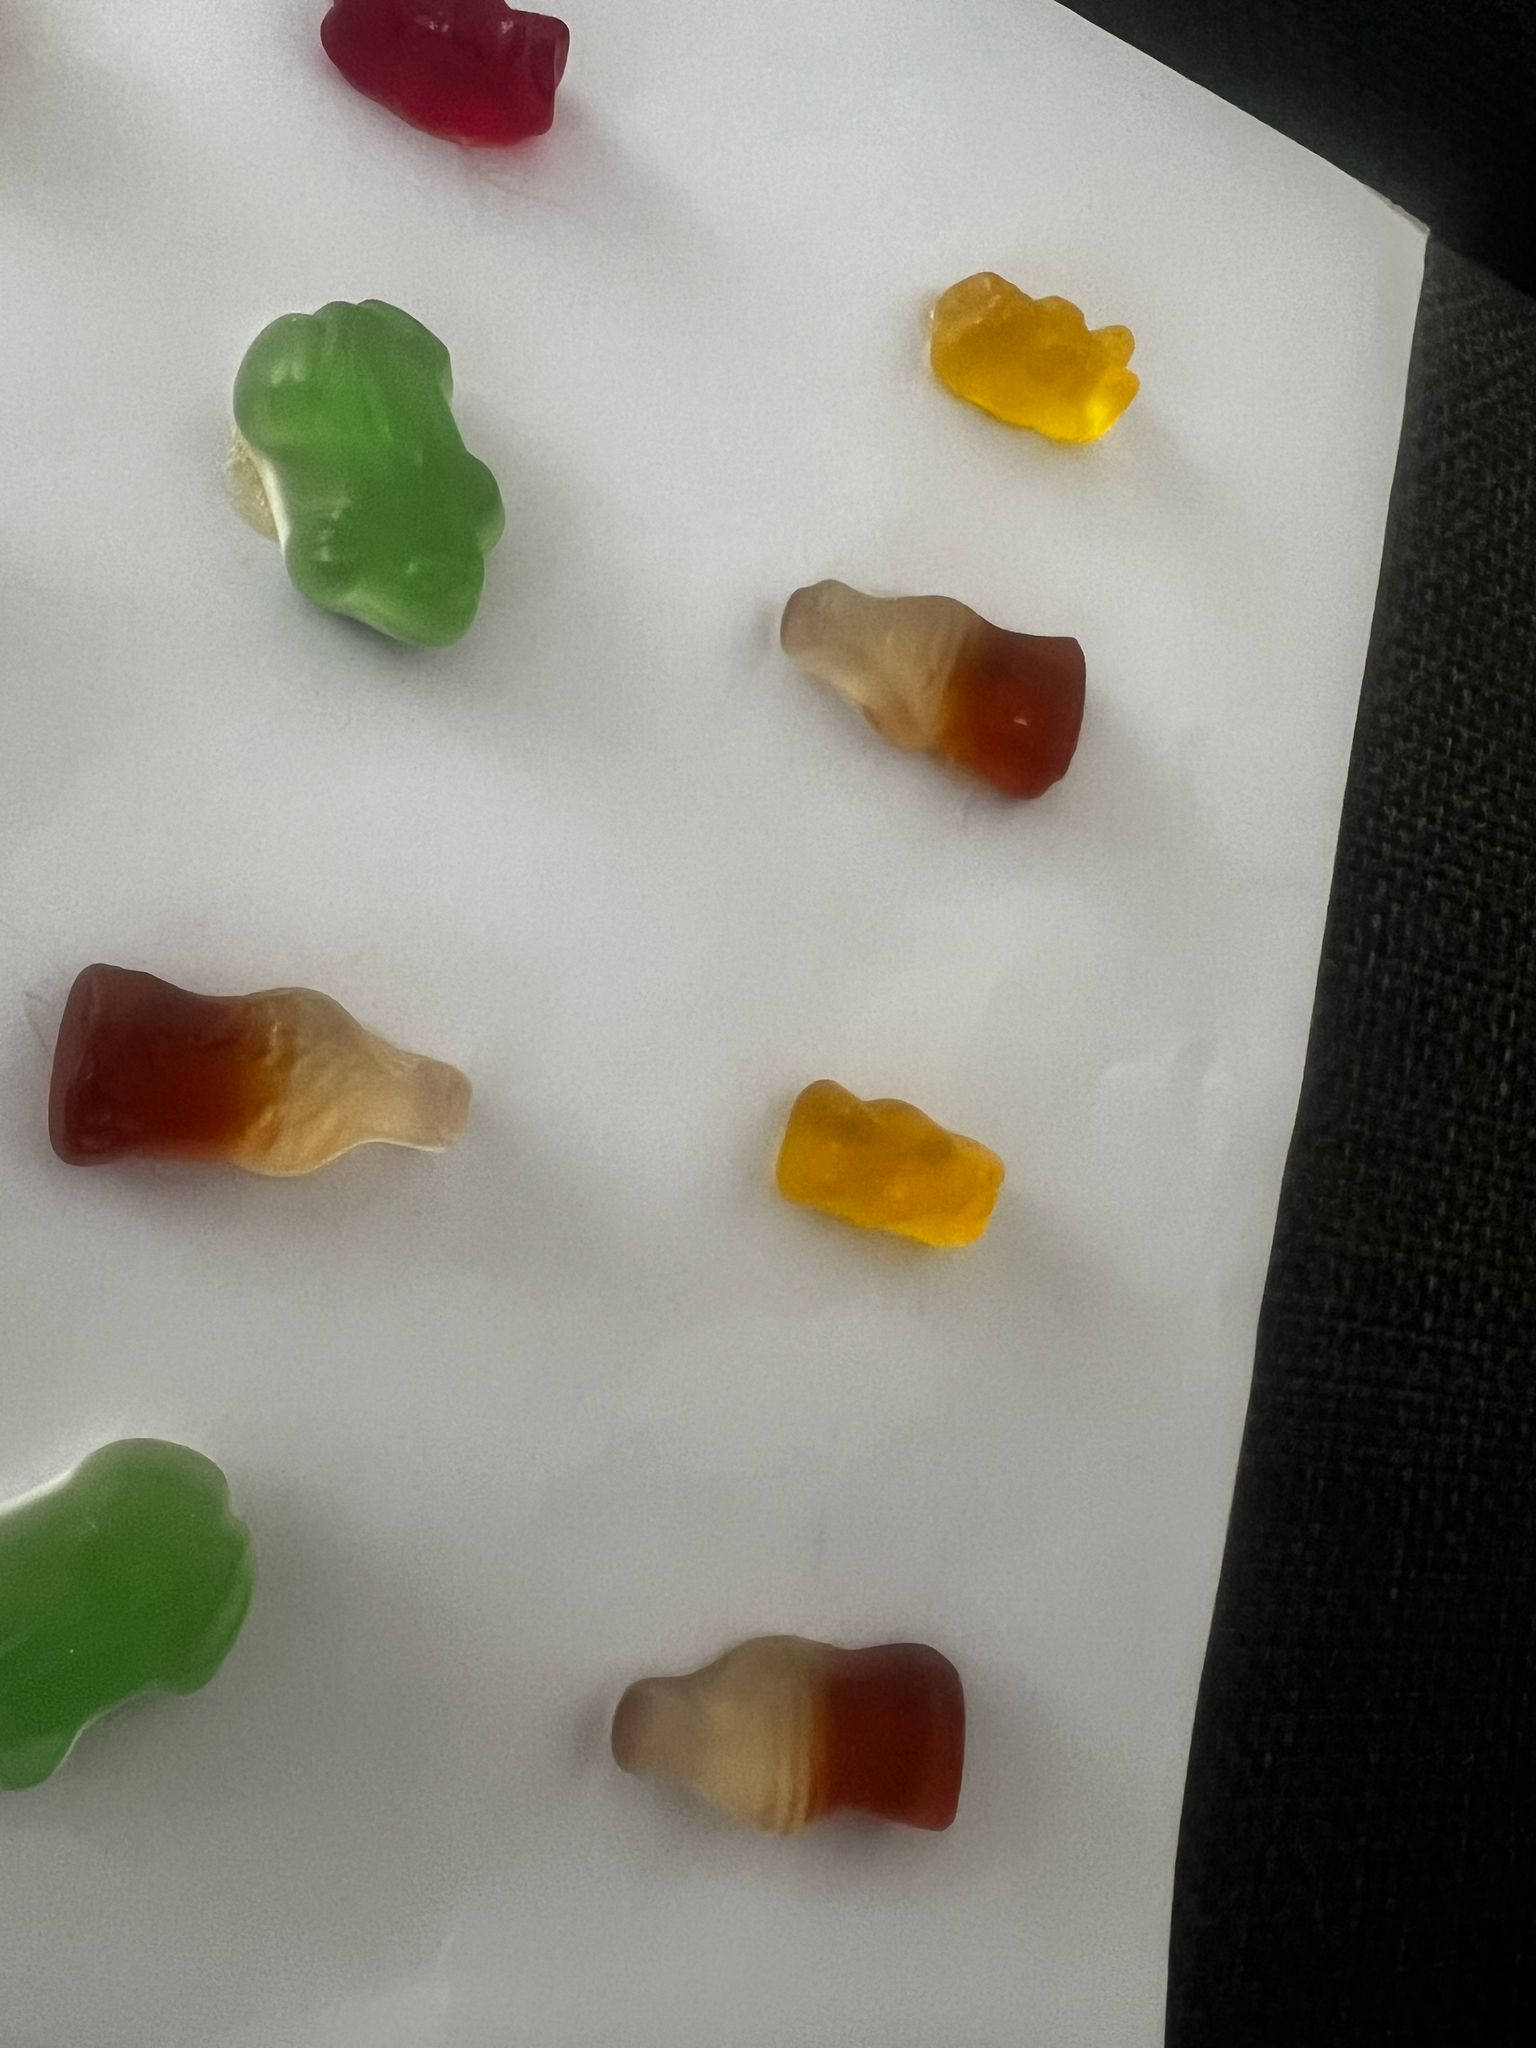cola: (40, 951, 494, 1195), (599, 1625, 978, 1866), (776, 545, 1094, 813)
frog: (229, 289, 515, 660), (2, 1430, 257, 1803)
gummybear: (766, 1056, 1013, 1255), (910, 256, 1144, 456), (311, 2, 591, 160)
